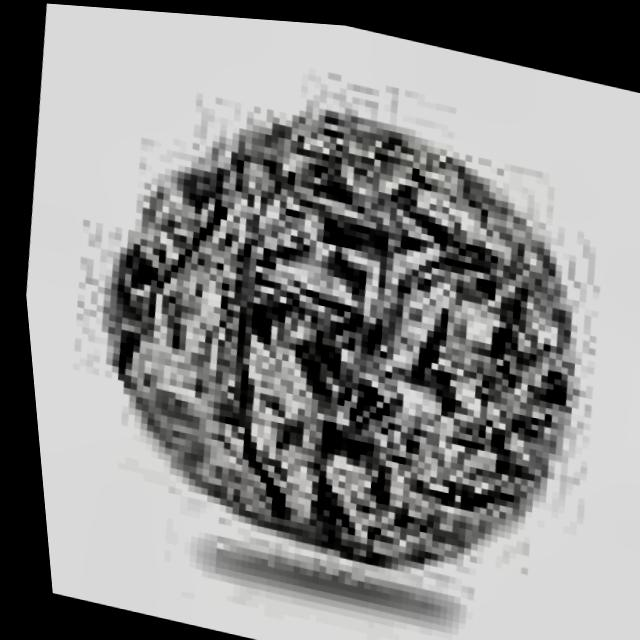Foil: (42, 50, 635, 633)
